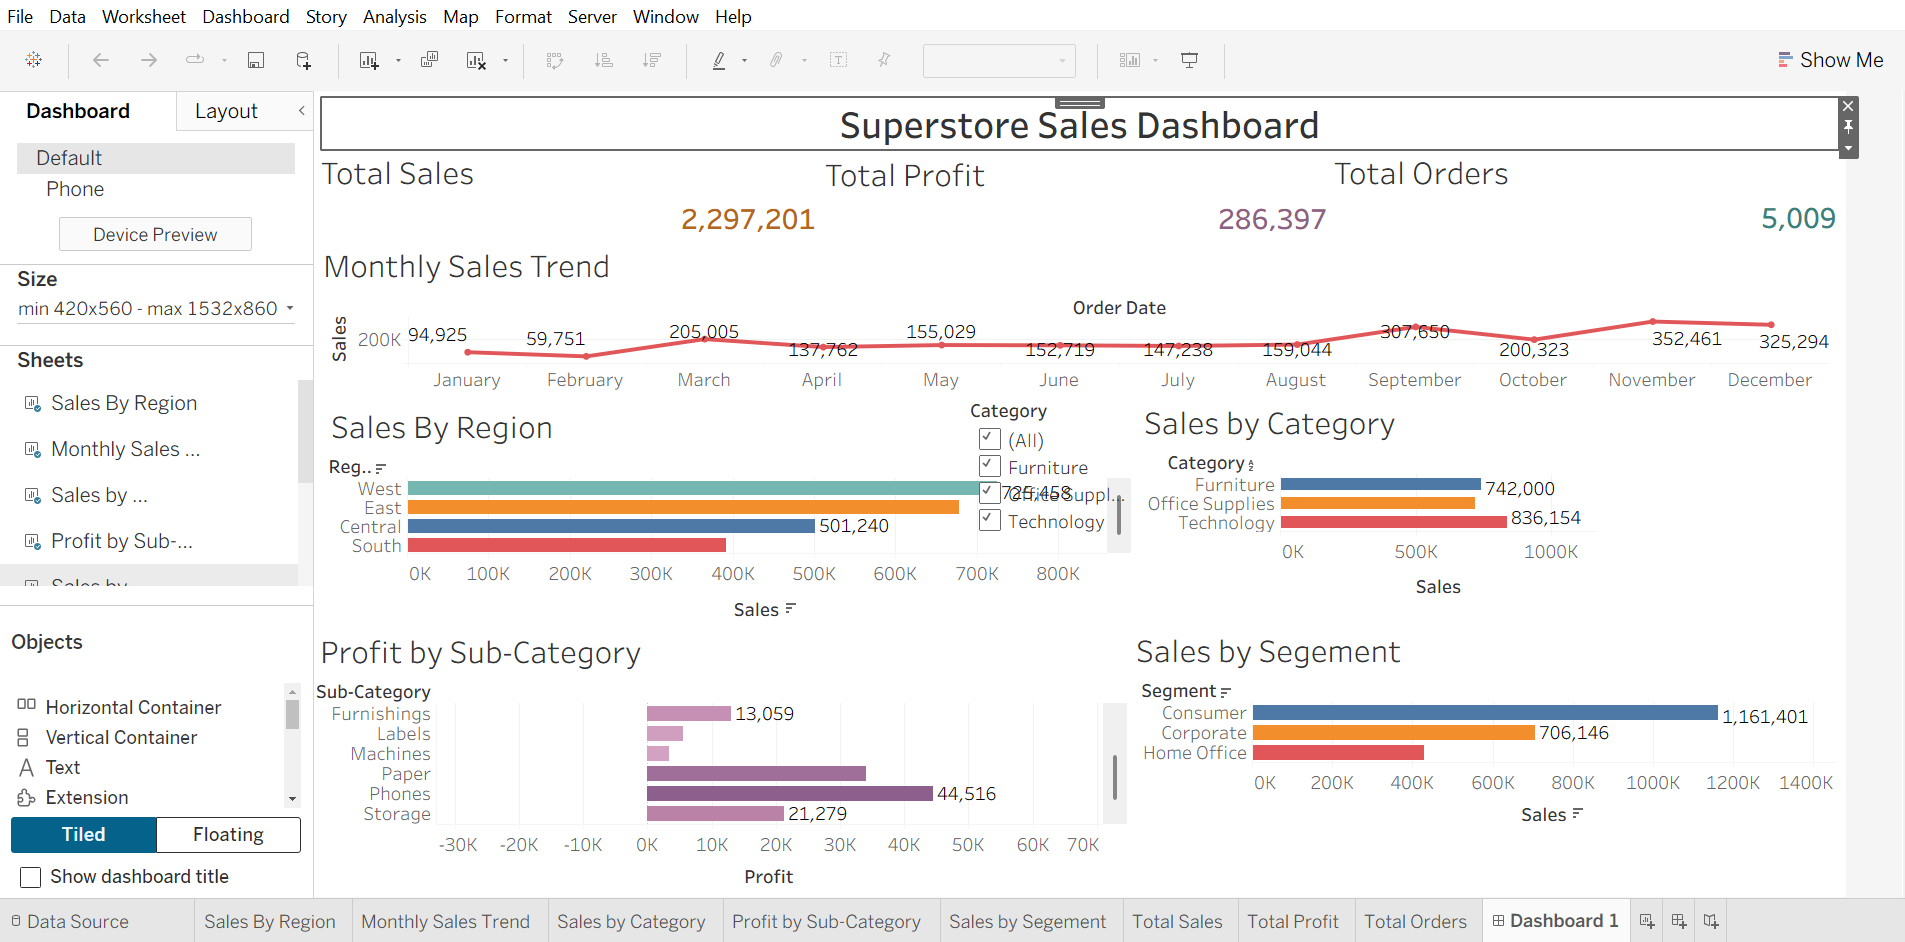

What the dashboard file says about the page in this screenshot:
{"tool":"tableau","page":{"name":"Dashboard 1","canvas":[1000,1000],"units":"permille","ordinal":0},"visuals":[{"type":"title","box":[5.2,9.9,989.6,63.2]},{"type":"worksheet","title":"Total Sales","mark":"Automatic","box":[2.2,70.6,328.1,105.3]},{"type":"worksheet","title":"Total Orders","mark":"Automatic","box":[662.9,70.6,333.3,104.1]},{"type":"worksheet","title":"Total Profit","mark":"Automatic","box":[331.1,73.1,333.3,101.6]},{"type":"worksheet","title":"Monthly Sales Trend","mark":"Line","rows":["Sales"],"cols":["Order Date"],"box":[3,185.9,986.5,188.3]},{"type":"filter","title":"Sales by Category","param":"[federated.0q6mman000hafc18qwcts045ww8b].[none:Category:nk]","box":[428.2,380.4,104.4,173.5]},{"type":"worksheet","title":"Sales by Category","mark":"Automatic","rows":["Category"],"cols":["Sales"],"box":[539,380.4,452.7,286.2]},{"type":"worksheet","title":"Sales By Region","mark":"Automatic","rows":["Region"],"cols":["Sales"],"box":[8.3,385.4,524.8,281.3]},{"type":"worksheet","title":"Sales by Segement","mark":"Automatic","rows":["Segment"],"cols":["Sales"],"box":[533.8,663,459.5,333.3]},{"type":"worksheet","title":"Profit by Sub-Category","mark":"Automatic","rows":["Sub-Category"],"cols":["Profit"],"box":[1.5,664.2,529.3,333.3]}]}

Visuals, with their boxes on the dashboard's canvas, which has no fixed pixel size, in thousandths of its width and height (x1, y1, x2, y2). These are canvas units, not pixel positions in the 1905x942 screenshot, which may show the page scaled, cropped or inside an application window:
title: 5, 10, 995, 73
"Total Sales" worksheet: 2, 71, 330, 176
"Total Orders" worksheet: 663, 71, 996, 175
"Total Profit" worksheet: 331, 73, 664, 175
"Monthly Sales Trend" worksheet (Line marks): 3, 186, 990, 374
"Sales by Category" filter: 428, 380, 533, 554
"Sales by Category" worksheet: 539, 380, 992, 667
"Sales By Region" worksheet: 8, 385, 533, 667
"Sales by Segement" worksheet: 534, 663, 993, 996
"Profit by Sub-Category" worksheet: 2, 664, 531, 998
